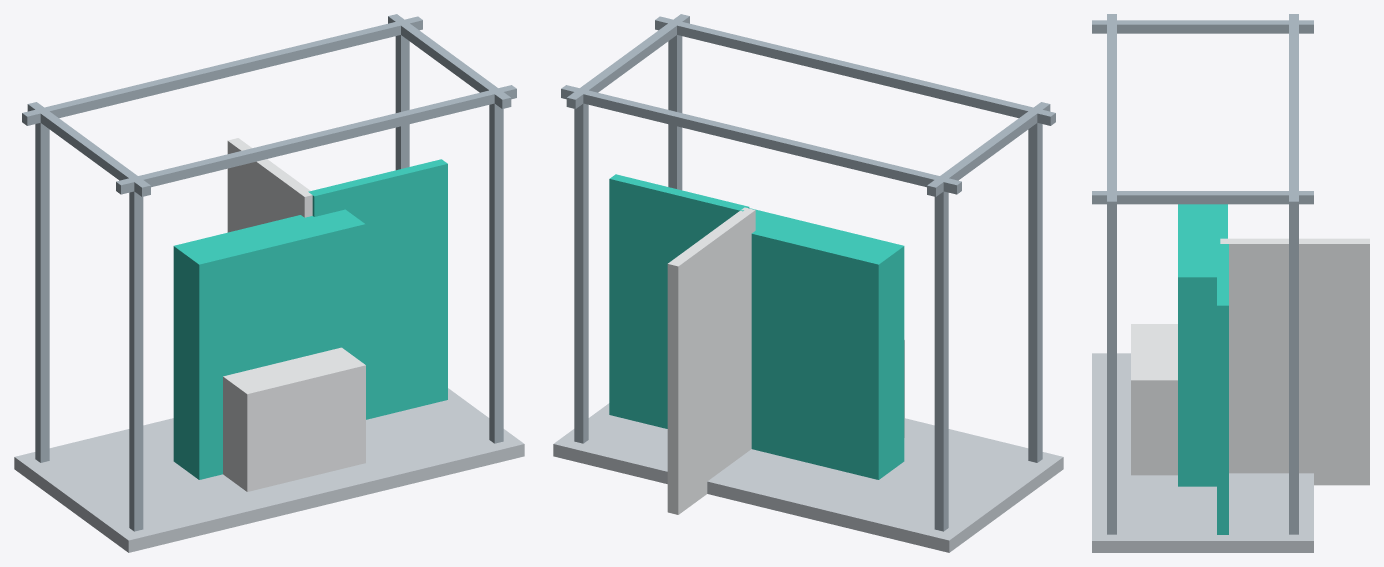
The picture shows the model from 3 angles, left to right: view 1: azimuth 30°, elevation 25°; view 2: azimuth 150°, elevation 25°; view 3: azimuth 270°, elevation 25°; orthographic projection. The views are drawn at different scales.
Parts seen in each view (by area): view 1: Exhibition Booth Concept; view 2: Exhibition Booth Concept; view 3: Exhibition Booth Concept.
Boxes of the visible parts, box(x1,y1,x2,y2) form: Exhibition Booth Concept: box(14, 14, 524, 552); Exhibition Booth Concept: box(553, 14, 1063, 552); Exhibition Booth Concept: box(1092, 14, 1369, 552).
Size of the model in its own units: 4 by 3.49 by 2.5.
